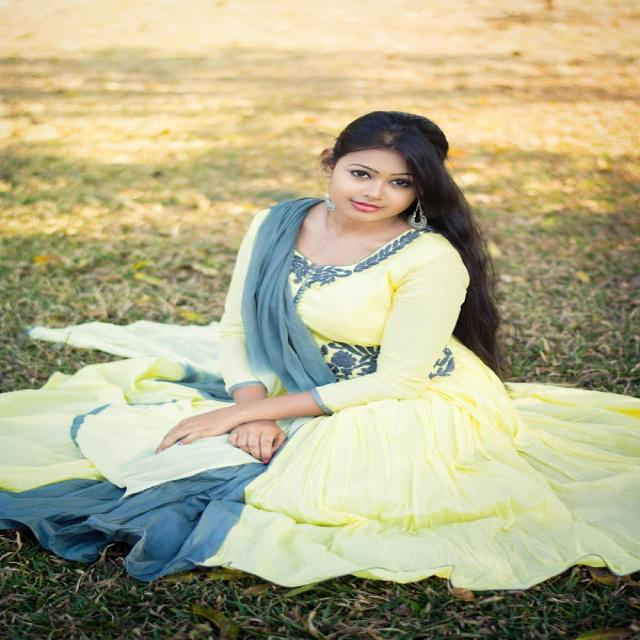Real human 2: (148, 91, 558, 594)
